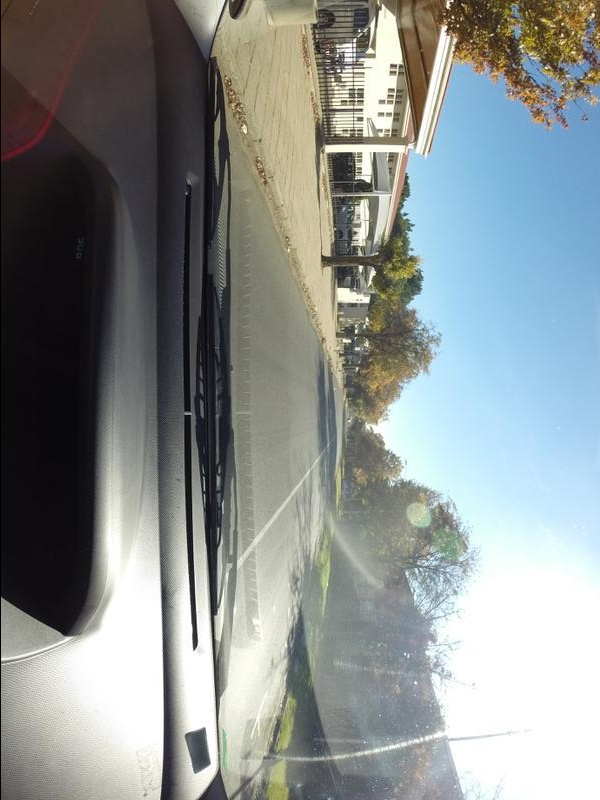pothole: (286, 564, 299, 596)
